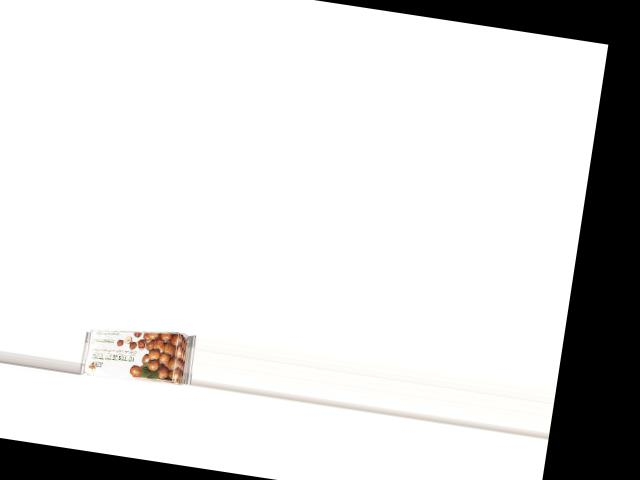chocolate: (79, 318, 196, 387)
